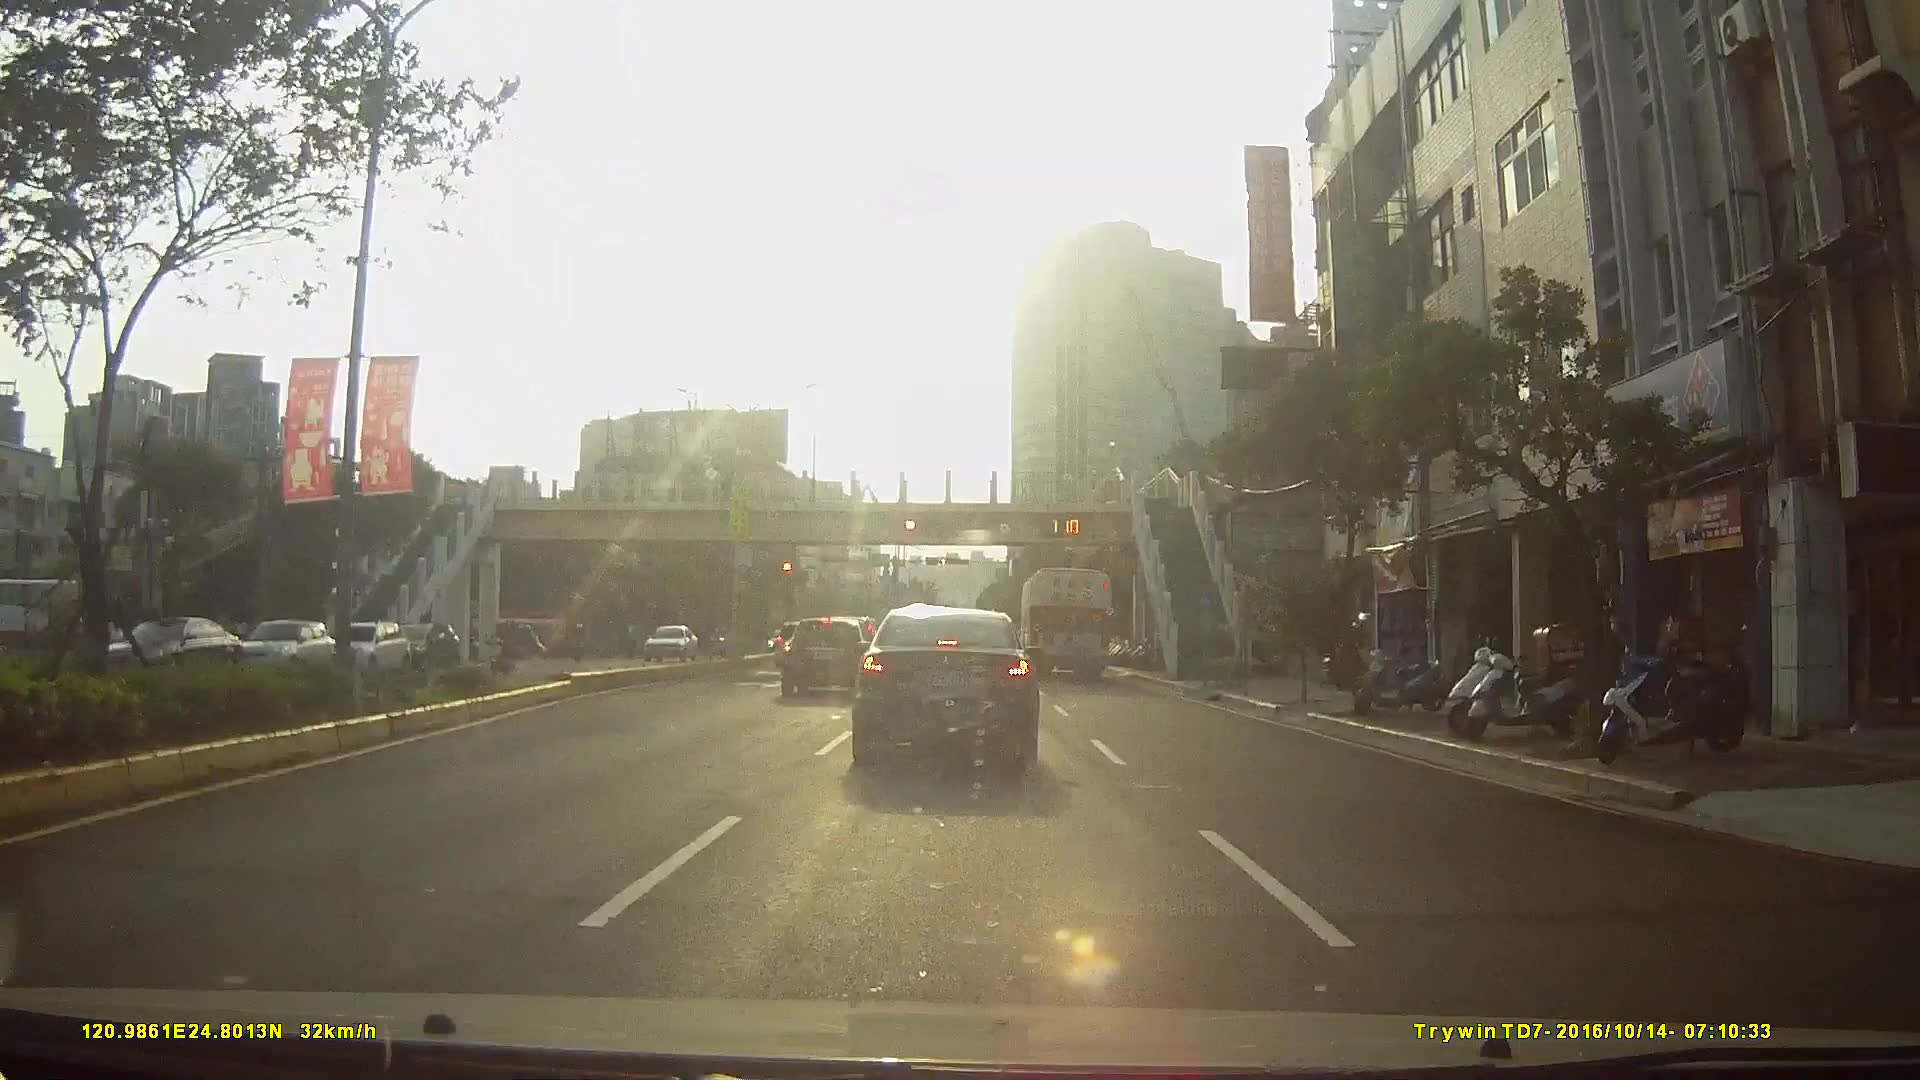rider: (487, 619, 519, 679)
vehicle: (849, 603, 1043, 765), (1018, 567, 1116, 683), (94, 616, 237, 688), (776, 615, 874, 700), (229, 618, 334, 679), (320, 622, 409, 675), (388, 622, 460, 672), (637, 623, 695, 664)
